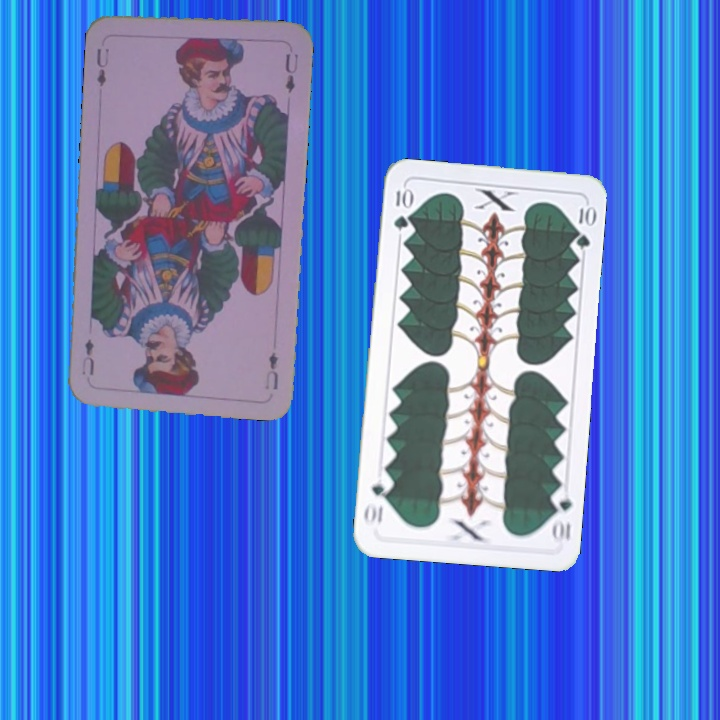EU: (92, 44, 112, 90), (261, 348, 281, 393)
G10: (547, 486, 574, 545), (390, 183, 413, 232)
